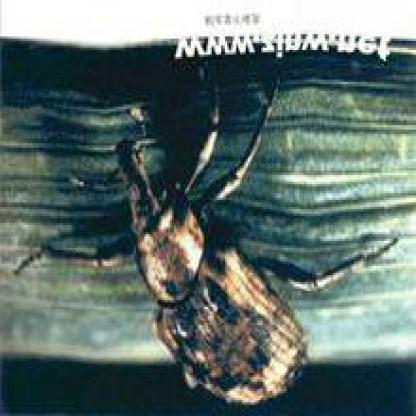rice-bug: (111, 122, 318, 408)
